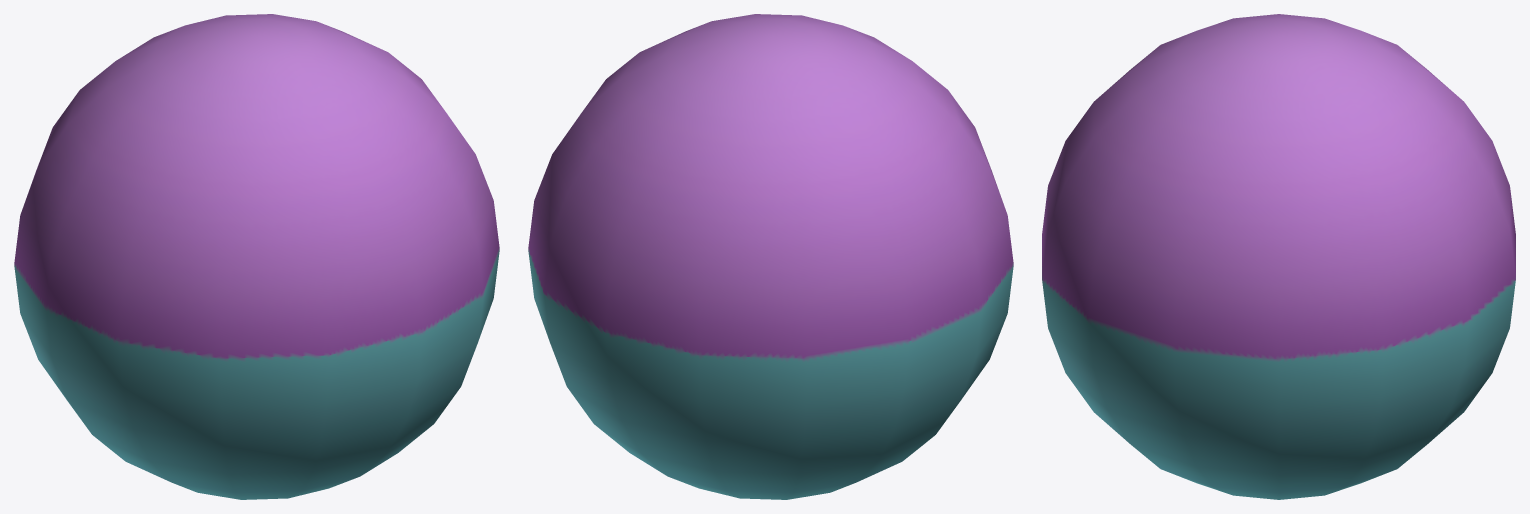
The model's file is PRO_Ball_B.glb.
3 renders of one model, left to right at view 1: azimuth 30°, elevation 25°; view 2: azimuth 150°, elevation 25°; view 3: azimuth 270°, elevation 25°, orthographic.
Visible parts, largest first — view 1: PRO_Ball_B; view 2: PRO_Ball_B; view 3: PRO_Ball_B.
Boxes of the visible parts, left/top/right/bottom form: PRO_Ball_B: left=14, top=14, right=499, bottom=499; PRO_Ball_B: left=528, top=14, right=1013, bottom=499; PRO_Ball_B: left=1042, top=14, right=1515, bottom=499.
Size of the model in its own units: 0.9954 by 0.9954 by 0.9705.
1 material, 1 textured.
